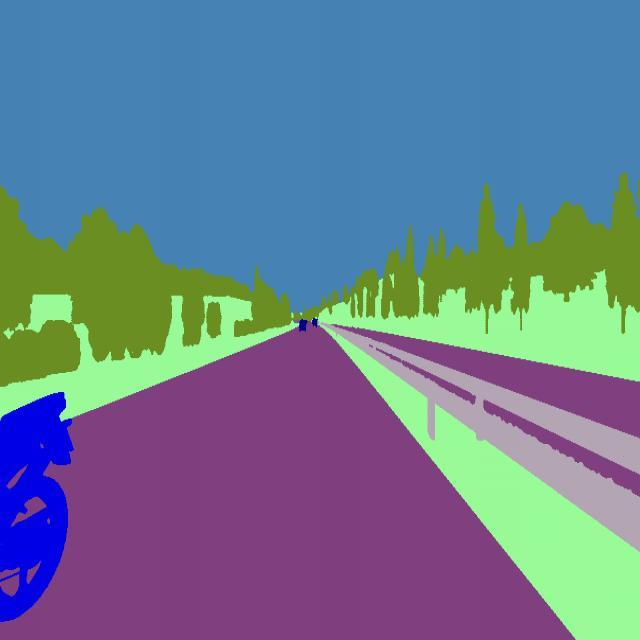safe: (294, 316, 308, 336), (311, 312, 320, 330)
unsafe: (0, 351, 82, 626)
